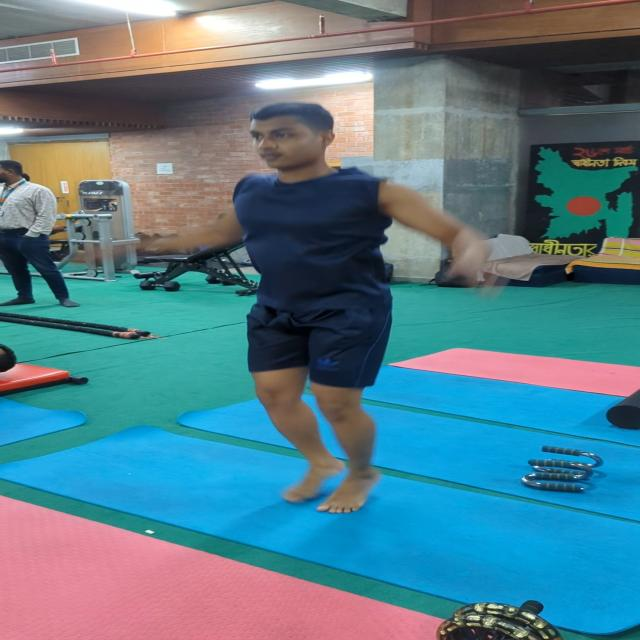Normal_JumpingJacks: (101, 104, 527, 520)
